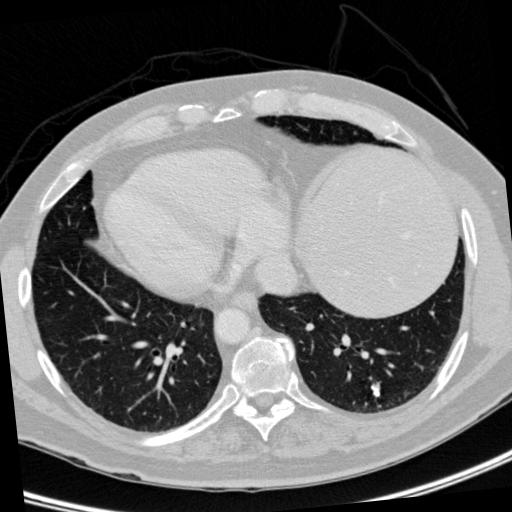nodule: (371, 383, 386, 398)
